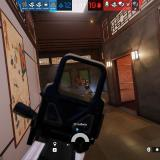Character: (81, 78, 94, 98)
Head: (82, 78, 85, 81)
